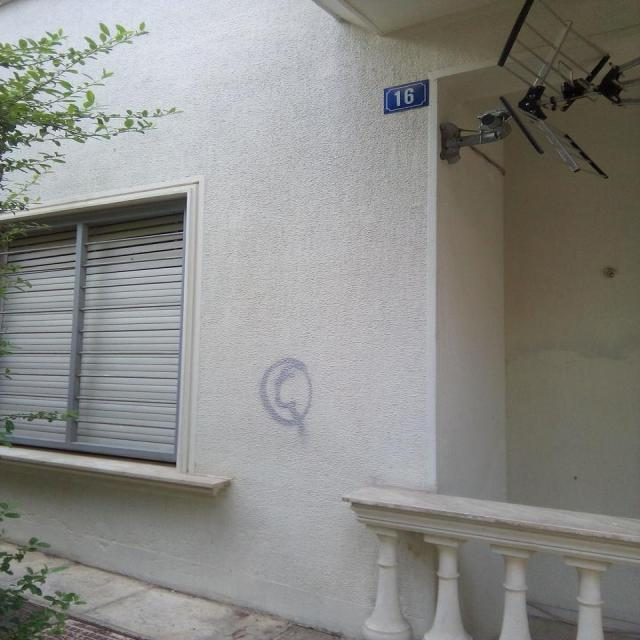nonspitting: (258, 356, 318, 434)
